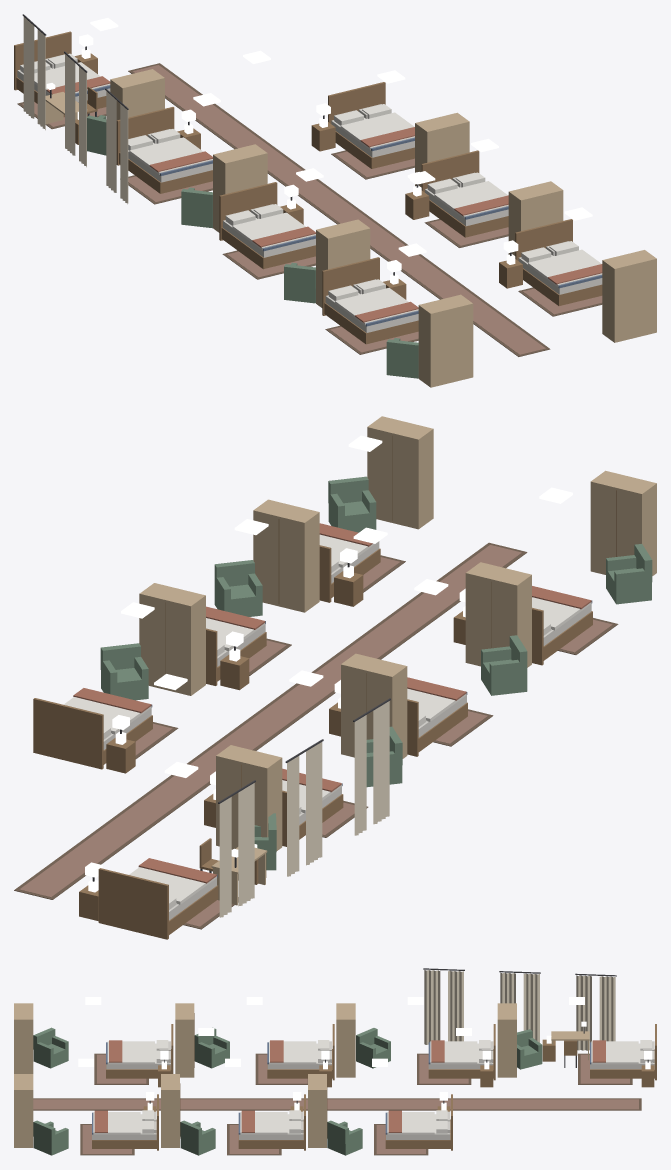
Rendered from fine-s1.glb.
3 views of the same model, one above another, from view 1: azimuth 30°, elevation 25°; view 2: azimuth 150°, elevation 25°; view 3: azimuth 270°, elevation 25° (orthographic). The views are drawn at different scales.
Visible parts, largest first — view 1: soft-s1, dresser.006, dresser.002, bed-frame.005, bed-frame.006, bed-frame.004, bed-frame.002, bed-frame.000, bed-frame.001, dresser.004, dresser.005, dresser.001 (+11 smaller); view 2: soft-s1, dresser.002, dresser.001, dresser.000, dresser.005, dresser.006, bed-frame.003, dresser.004, bed-frame.000, dresser.003, lounge-chair.001, lounge-chair.000 (+14 smaller); view 3: soft-s1, dresser.003, dresser.004, dresser.002, dresser.005, dresser.000, dresser.001, dresser.006, bed-frame.000, bed-frame.001, bed-frame.002, lounge-chair.006 (+14 smaller).
Part boxes in pixels (<box>): soft-s1: <box>17,14,602,356</box>; dresser.006: <box>418,294,473,387</box>; dresser.002: <box>602,250,656,342</box>; bed-frame.005: <box>219,182,315,269</box>; bed-frame.006: <box>322,257,418,344</box>; bed-frame.004: <box>116,107,212,193</box>; bed-frame.002: <box>515,219,602,305</box>; bed-frame.000: <box>328,82,414,168</box>; bed-frame.001: <box>421,150,508,237</box>; dresser.004: <box>213,144,267,232</box>; dresser.005: <box>316,219,370,307</box>; dresser.001: <box>508,181,563,255</box>; soft-s1: <box>14,523,618,929</box>; dresser.002: <box>367,416,433,529</box>; dresser.001: <box>253,499,319,612</box>; dresser.000: <box>139,583,205,695</box>; dresser.005: <box>465,562,531,667</box>; dresser.006: <box>590,470,656,575</box>; bed-frame.003: <box>98,868,218,939</box>; dresser.004: <box>341,653,407,758</box>; bed-frame.000: <box>33,698,152,769</box>; dresser.003: <box>216,745,282,850</box>; lounge-chair.001: <box>214,560,262,616</box>; lounge-chair.000: <box>100,643,148,700</box>; soft-s1: <box>33,968,652,1155</box>; dresser.003: <box>497,1003,516,1077</box>; dresser.004: <box>336,1003,355,1077</box>; dresser.002: <box>14,1074,33,1147</box>; dresser.005: <box>175,1003,194,1077</box>; dresser.000: <box>308,1074,327,1147</box>; dresser.001: <box>161,1074,180,1147</box>; dresser.006: <box>14,1003,33,1073</box>; bed-frame.000: <box>385,1094,452,1150</box>; bed-frame.001: <box>238,1094,305,1150</box>; bed-frame.002: <box>92,1094,158,1150</box>; lounge-chair.006: <box>33,1027,68,1068</box>.
Size of the model in its own units: 8.17 by 2.66 by 20.1.
